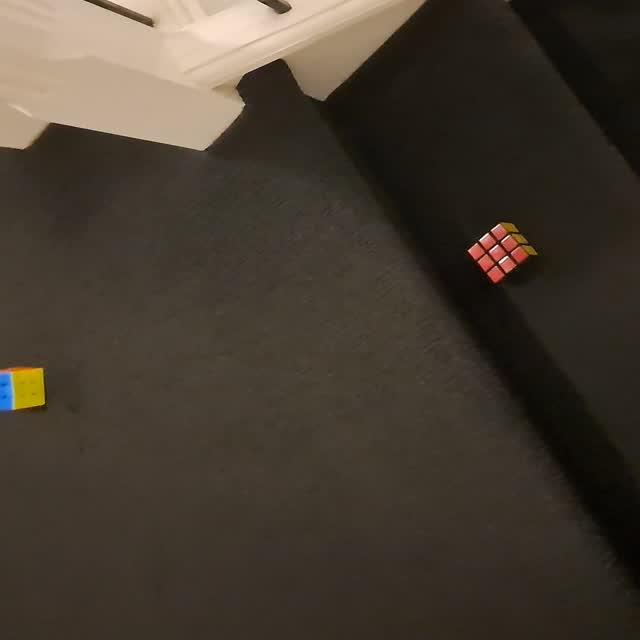rubix_cube: (460, 218, 540, 287), (1, 362, 49, 417)
